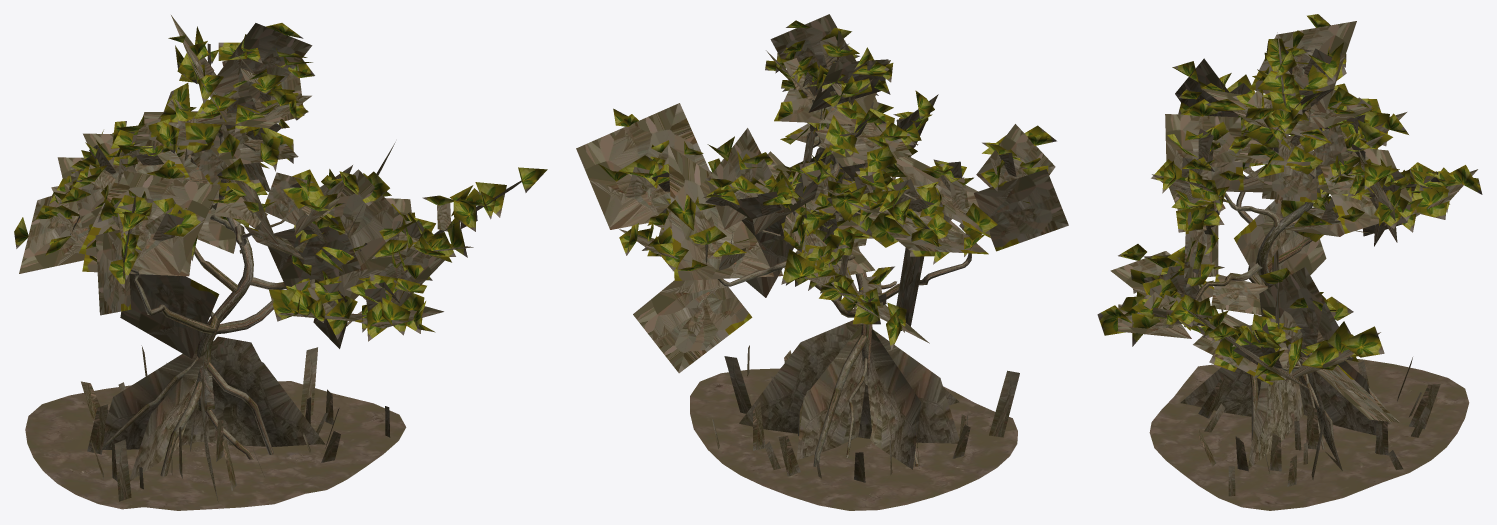
Rendered from duoc.glb.
3 renders of one model, left to right at view 1: azimuth 30°, elevation 25°; view 2: azimuth 150°, elevation 25°; view 3: azimuth 270°, elevation 25°, orthographic. The views are drawn at different scales.
Visible parts, largest first — view 1: SM_MangroveTree.001_0, Plane_2; view 2: SM_MangroveTree.001_0, Plane_2; view 3: SM_MangroveTree.001_0, Plane_2.
Boxes of the visible parts, bbox=[...] form: SM_MangroveTree.001_0: bbox=[14, 15, 547, 501]; Plane_2: bbox=[25, 381, 406, 510]; SM_MangroveTree.001_0: bbox=[576, 14, 1068, 482]; Plane_2: bbox=[690, 368, 1017, 510]; SM_MangroveTree.001_0: bbox=[1097, 14, 1482, 496]; Plane_2: bbox=[1149, 359, 1469, 510].
Bounding box in the file's own units: 1 × 0.8765 × 0.7185.
Materials: 3 (3 with a texture image).
